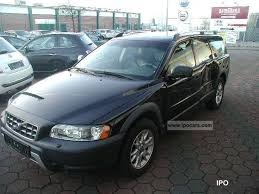Dent: (198, 61, 220, 95), (55, 143, 64, 150)
